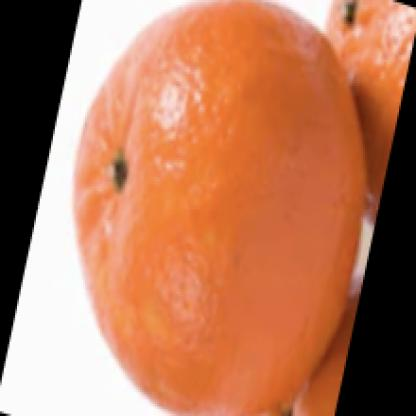fresh: (73, 1, 368, 416)
